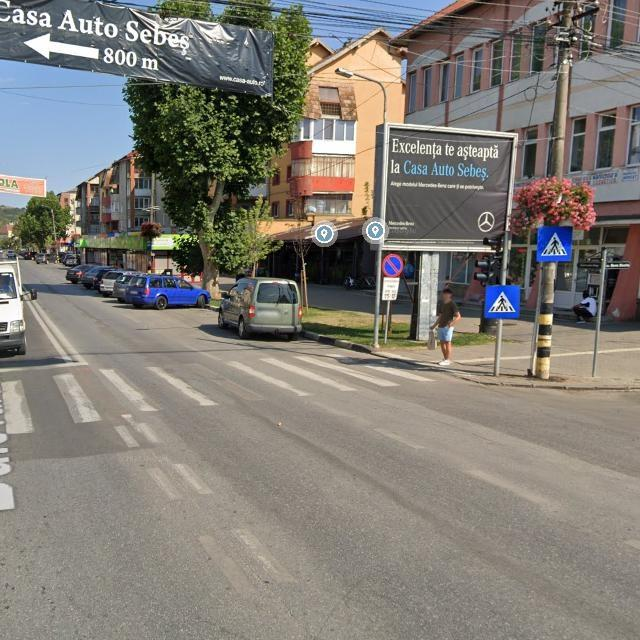info_crosswalk: (537, 226, 572, 262), (484, 284, 520, 318)
